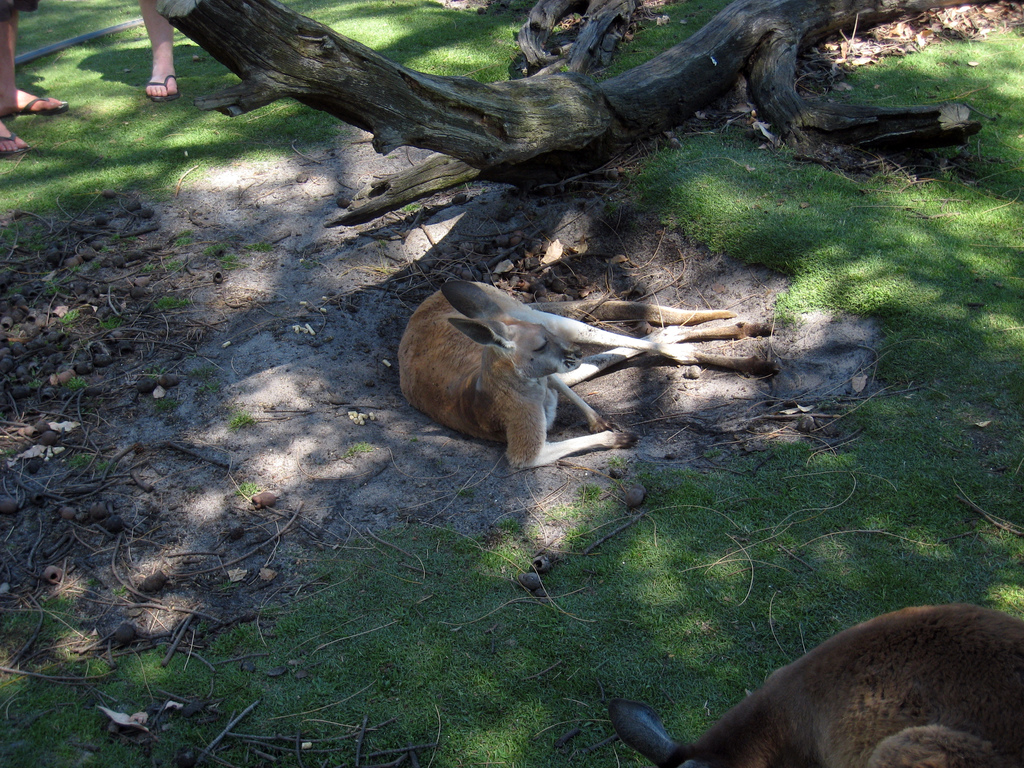kangaroo: (398, 275, 775, 471)
